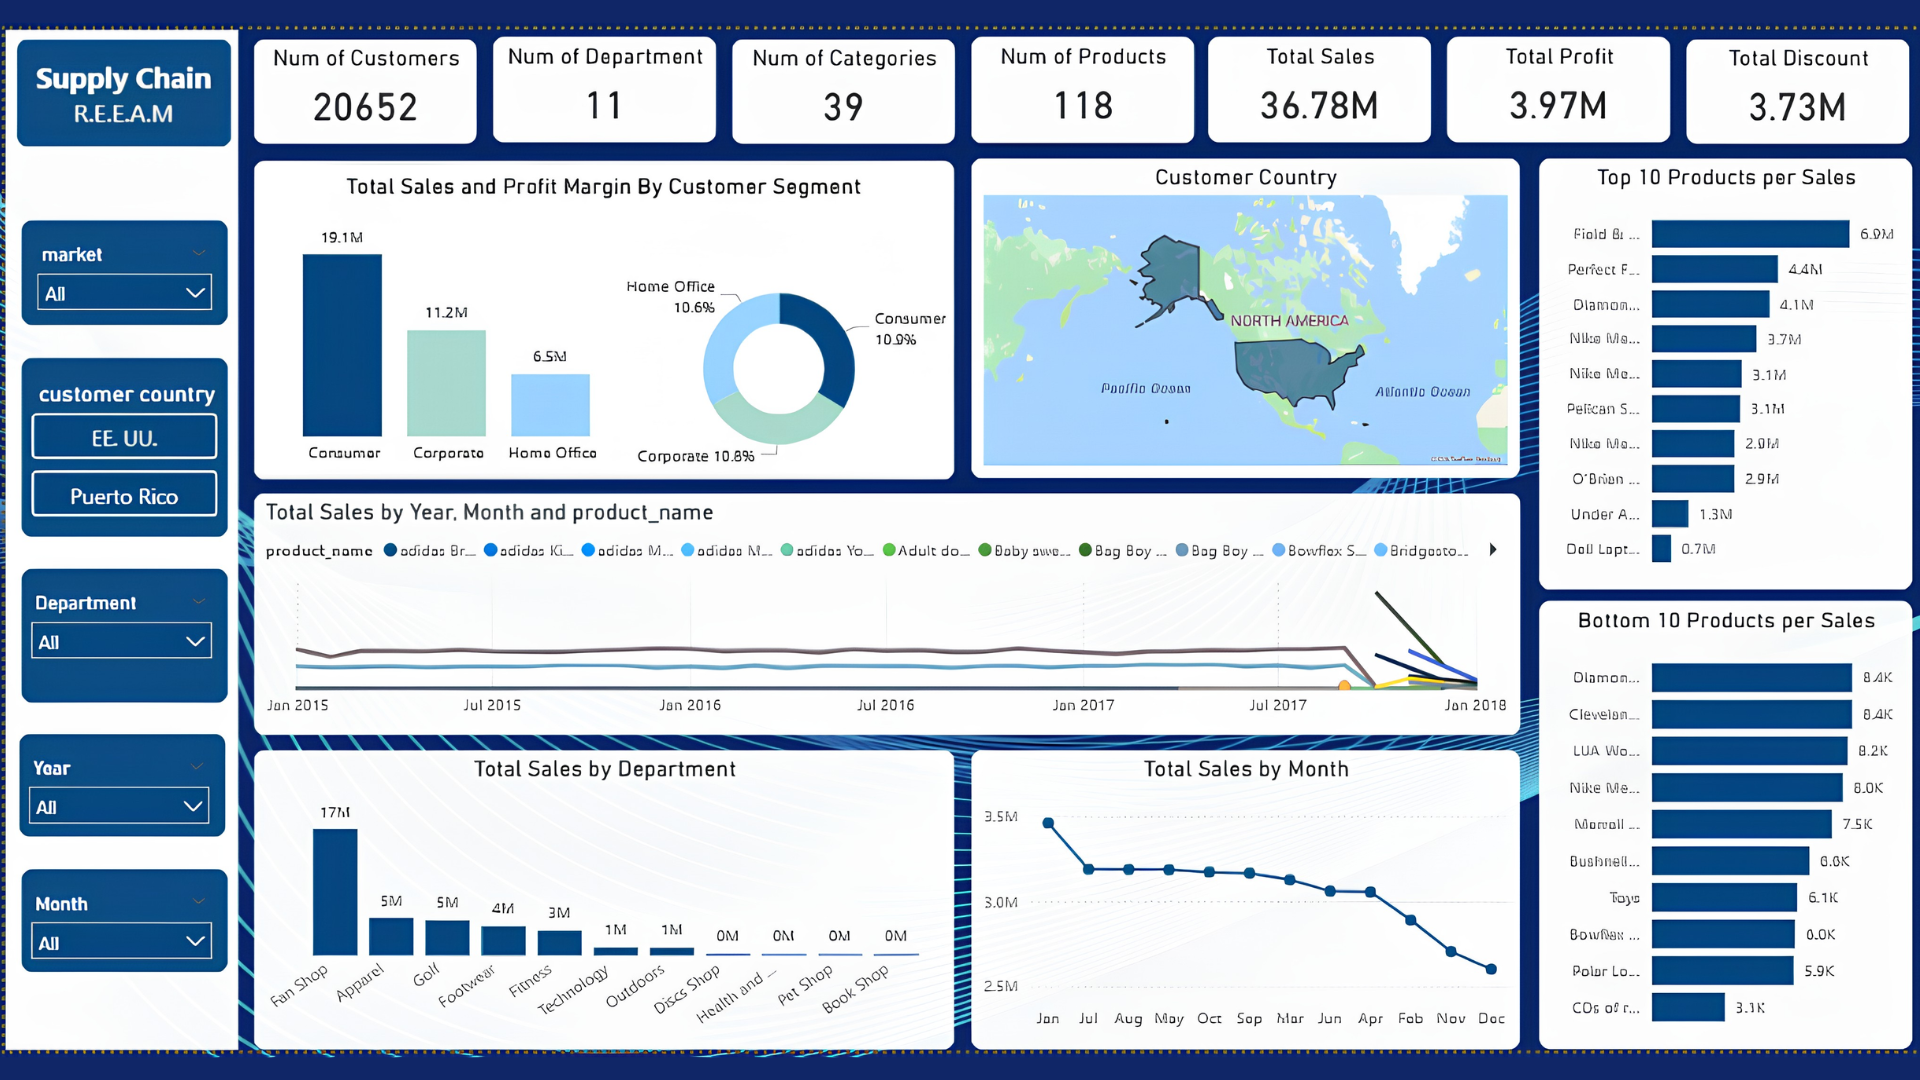

Layout of this report page (visuals, bound fields, positions):
{"tool":"powerbi","page":{"name":"Customers & Products","canvas":[1440,768],"ordinal":2},"visuals":[{"type":"group","id":"g1","title":"Group 1","box":[0,0,175.3,773.1],"z":0},{"type":"shape","box":[0,0,174.5,773.2],"z":0,"group":"g1"},{"type":"card","title":"Num of Products","fields":{"Values":["Dax_Measure.Num Products"]},"box":[725.4,5.2,167.4,79.8],"z":0,"group":"g3"},{"type":"group","id":"g2","title":"Group 3","box":[187.1,97.7,525.9,240],"z":0,"group":"g5"},{"type":"group","id":"g3","title":"Group 2","box":[187.2,5.2,1243.9,80.8],"z":1000},{"type":"card","title":"Total Sales","fields":{"Values":["Dax_Measure.Total Sales"]},"box":[904.8,6,167.5,79.6],"z":1000,"group":"g3"},{"type":"textbox","box":[218.5,101.5,463.1,33.2],"z":1000,"group":"g5"},{"type":"slicer","fields":{"Values":["orders.market"]},"box":[12.3,143.9,154.4,78.5],"z":1000,"group":"g1"},{"type":"textbox","box":[8,7,160.5,80.9],"z":2000,"group":"g1"},{"type":"group","id":"g4","title":"Group 4","box":[187.1,97.7,525.9,240],"z":2000},{"type":"slicer","fields":{"Values":["Dim_Date.Year"]},"box":[11,530.5,154.4,77.2],"z":3000,"group":"g1"},{"type":"lineChart","title":"Total Sales by Month","fields":{"Category":["Dim_Date.Month Short"],"Y":["Dax_Measure.Total Sales"]},"box":[726,542.9,412.1,225],"z":3000},{"type":"clusteredBarChart","title":"Top 10 Products per Sales","fields":{"Category":["products.product_name"],"Y":["Dax_Measure.Total Sales"]},"box":[1151.2,96.8,279.9,324.4],"z":4000},{"type":"shape","box":[187.1,97.7,525.9,240],"z":4000,"group":"g2"},{"type":"slicer","fields":{"Values":["Dim_Date.Month Short"]},"box":[11.6,631.8,154.4,77.2],"z":4000,"group":"g1"},{"type":"columnChart","title":"Total Sales by Customer Segment","fields":{"Category":["customers.customer_segment"],"Y":["Dax_Measure.Total Sales"]},"box":[187.1,131.7,291.7,202.8],"z":4500,"group":"g2"},{"type":"card","title":"Total Profit","fields":{"Values":["Dax_Measure.Total Profit"]},"box":[1084.2,6,167.5,79.6],"z":5000,"group":"g3"},{"type":"donutChart","title":"Total Sales by Customer Segment","fields":{"Category":["customers.customer_segment"],"Y":["Dax_Measure.Profit Margin"]},"box":[450,173.6,262.9,160.9],"z":5000,"group":"g2"},{"type":"advancedSlicerVisual","title":"customer country","fields":{"Values":["customers.customer_country"]},"box":[11.6,246.6,154.4,134.7],"z":5000,"group":"g1"},{"type":"lineChart","fields":{"Y":["Dax_Measure.Total Sales"],"Category":["Dim_Date.Date.Variation.Date Hierarchy.Year","Dim_Date.Date.Variation.Date Hierarchy.Month"],"Series":["products.product_name"]},"box":[187.1,349.4,951,181.8],"z":5000},{"type":"group","id":"g5","title":"Group 5","box":[187.1,97.7,525.9,240],"z":5002,"group":"g4"},{"type":"card","title":"Num of Department","fields":{"Values":["Count(categories.department_id)"]},"box":[366.6,6,167.5,79.6],"z":6000,"group":"g3"},{"type":"azureMap","title":"Customer Country","fields":{"Category":["customers.customer_country","customers.customer_state","customers.customer_city"]},"box":[726,96.8,412.1,240.7],"z":6000},{"type":"slicer","fields":{"Values":["categories.department_name"]},"box":[11.6,405.5,154.4,100.7],"z":6000,"group":"g1"},{"type":"card","title":"Total Discount","fields":{"Values":["Dax_Measure.Total discount"]},"box":[1263.6,6.5,167.4,78.5],"z":7000,"group":"g3"},{"type":"clusteredBarChart","title":"Bottom 10 Products per Sales","fields":{"Category":["products.product_name"],"Y":["Dax_Measure.Total Sales"]},"box":[1151.2,430.4,279.9,337.5],"z":7000},{"type":"card","title":"Num of Customers","fields":{"Values":["Count(customers.customer_id)"]},"box":[187.2,6.2,167.4,78.5],"z":8000,"group":"g3"},{"type":"columnChart","title":"Total Sales by Department","fields":{"Category":["categories.department_name"],"Y":["Dax_Measure.Total Sales"]},"box":[187.1,542.9,525.9,225],"z":8000},{"type":"card","title":"Num of Categories","fields":{"Values":["Count(categories.category_name)"]},"box":[546,7.5,167.4,78.5],"z":10000,"group":"g3"}]}

Visuals, with their boxes on the page's 1440x768 design canvas (x1, y1, x2, y2). These are canvas units, not pixel positions in the 1920x1080 screenshot, which may show the page scaled, cropped or inside an application window:
"Group 1" group: box(0, 0, 175, 773)
shape: box(0, 0, 174, 773)
"Num of Products" card: box(725, 5, 893, 85)
"Group 3" group: box(187, 98, 713, 338)
"Group 2" group: box(187, 5, 1431, 86)
"Total Sales" card: box(905, 6, 1072, 86)
textbox: box(218, 102, 682, 135)
slicer - orders.market: box(12, 144, 167, 222)
textbox: box(8, 7, 168, 88)
"Group 4" group: box(187, 98, 713, 338)
slicer - Dim_Date.Year: box(11, 530, 165, 608)
"Total Sales by Month" lineChart: box(726, 543, 1138, 768)
"Top 10 Products per Sales" clusteredBarChart: box(1151, 97, 1431, 421)
shape: box(187, 98, 713, 338)
slicer - Dim_Date.Month Short: box(12, 632, 166, 709)
"Total Sales by Customer Segment" columnChart: box(187, 132, 479, 334)
"Total Profit" card: box(1084, 6, 1252, 86)
"Total Sales by Customer Segment" donutChart: box(450, 174, 713, 334)
"customer country" advancedSlicerVisual: box(12, 247, 166, 381)
lineChart - Dax_Measure.Total Sales x Dim_Date.Date.Variation.Date Hierarchy.Year: box(187, 349, 1138, 531)
"Group 5" group: box(187, 98, 713, 338)
"Num of Department" card: box(367, 6, 534, 86)
"Customer Country" azureMap: box(726, 97, 1138, 338)
slicer - categories.department_name: box(12, 406, 166, 506)
"Total Discount" card: box(1264, 6, 1431, 85)
"Bottom 10 Products per Sales" clusteredBarChart: box(1151, 430, 1431, 768)
"Num of Customers" card: box(187, 6, 355, 85)
"Total Sales by Department" columnChart: box(187, 543, 713, 768)
"Num of Categories" card: box(546, 8, 713, 86)
